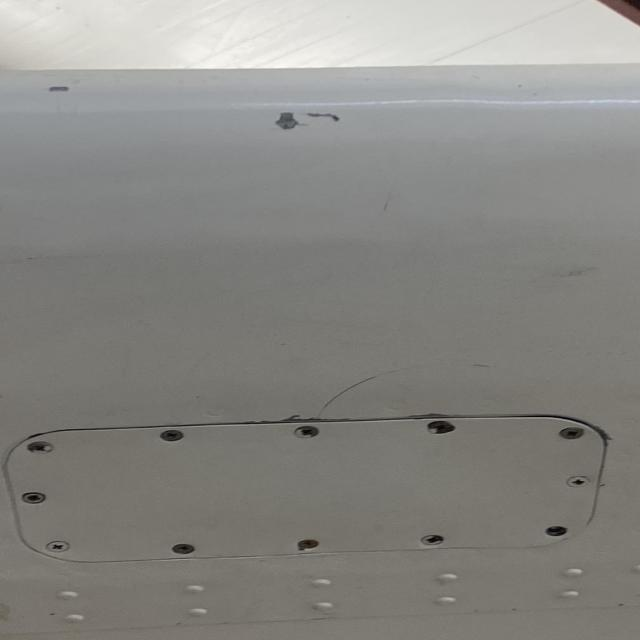Missing-head: (545, 527, 570, 539)
Paint-off: (274, 110, 339, 130), (45, 84, 69, 93)
